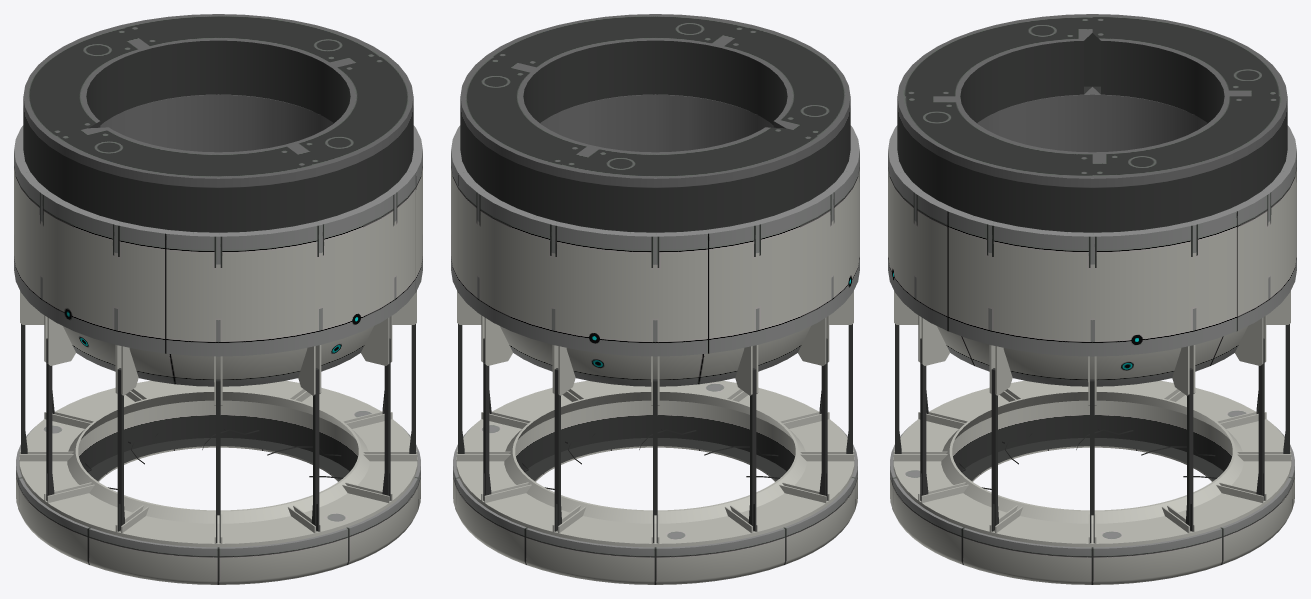
The model's file is cube_dispenser.glb.
3 views of the same model, side by side, from view 1: azimuth 30°, elevation 25°; view 2: azimuth 150°, elevation 25°; view 3: azimuth 270°, elevation 25° (orthographic).
Visible parts, largest first — view 1: body; view 2: body; view 3: body.
Boxes of the visible parts, left/top/right/bottom form: body: left=14, top=14, right=422, bottom=584; body: left=451, top=14, right=859, bottom=584; body: left=888, top=14, right=1296, bottom=584.
Bounding box in the file's own units: 1.4 × 1.54 × 1.4.
Materials: 1 (1 with a texture image).
